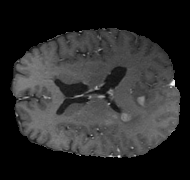Edema: (66, 91, 161, 133)
EnhancingTumors: (104, 77, 148, 119)
Necrosis: (106, 101, 140, 117)
